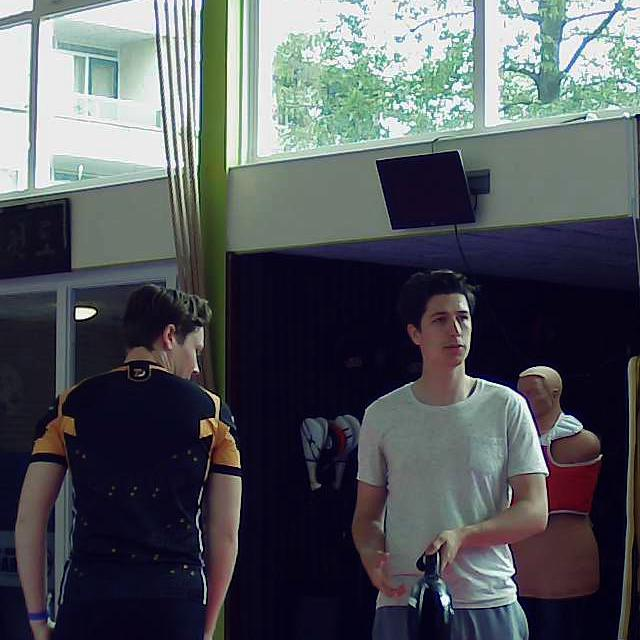paddle: (403, 542, 458, 640)
